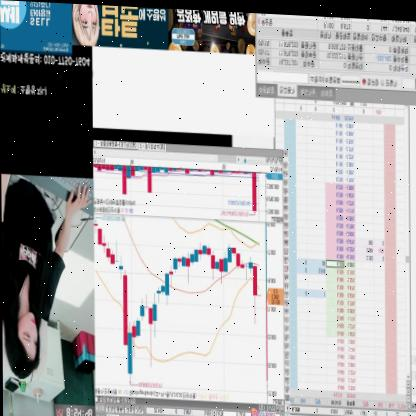streamer: (1, 175, 93, 383)
